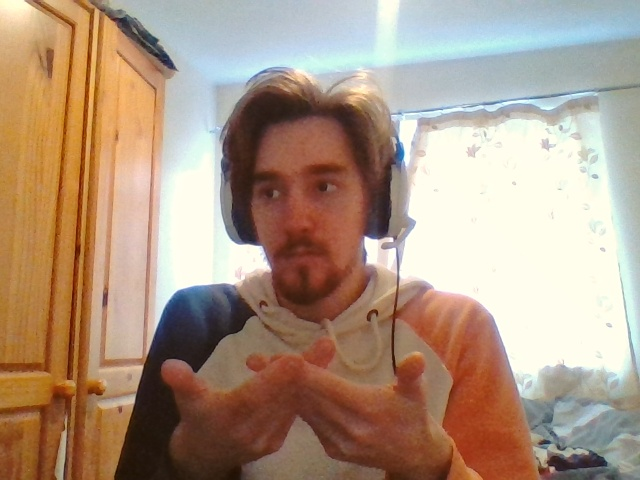how: (160, 338, 425, 459)
